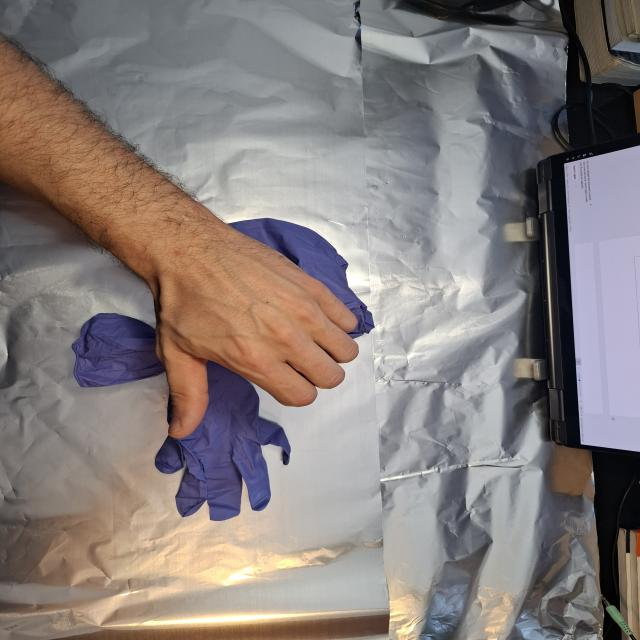glove_off: (140, 230, 362, 440)
